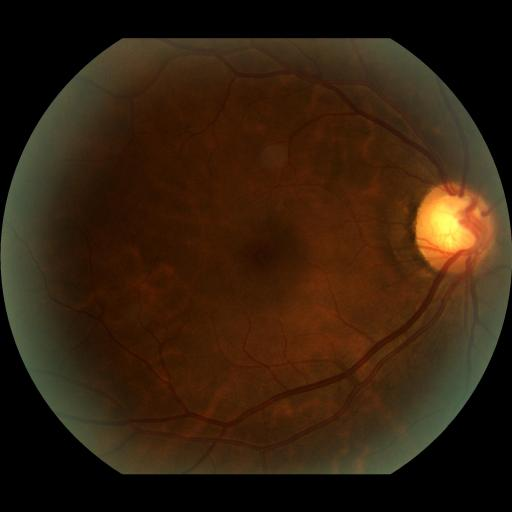Optic Cup: (429, 196, 480, 252)
Optic Disc: (415, 183, 495, 274)
